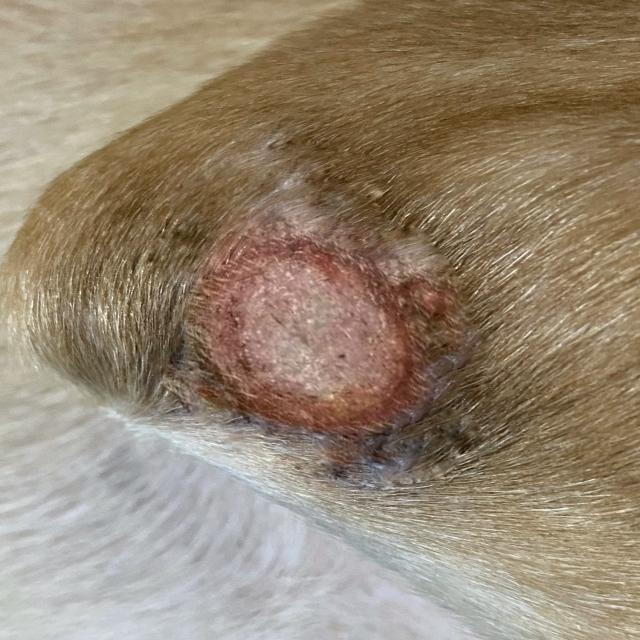ringworm: (168, 259, 440, 434)
